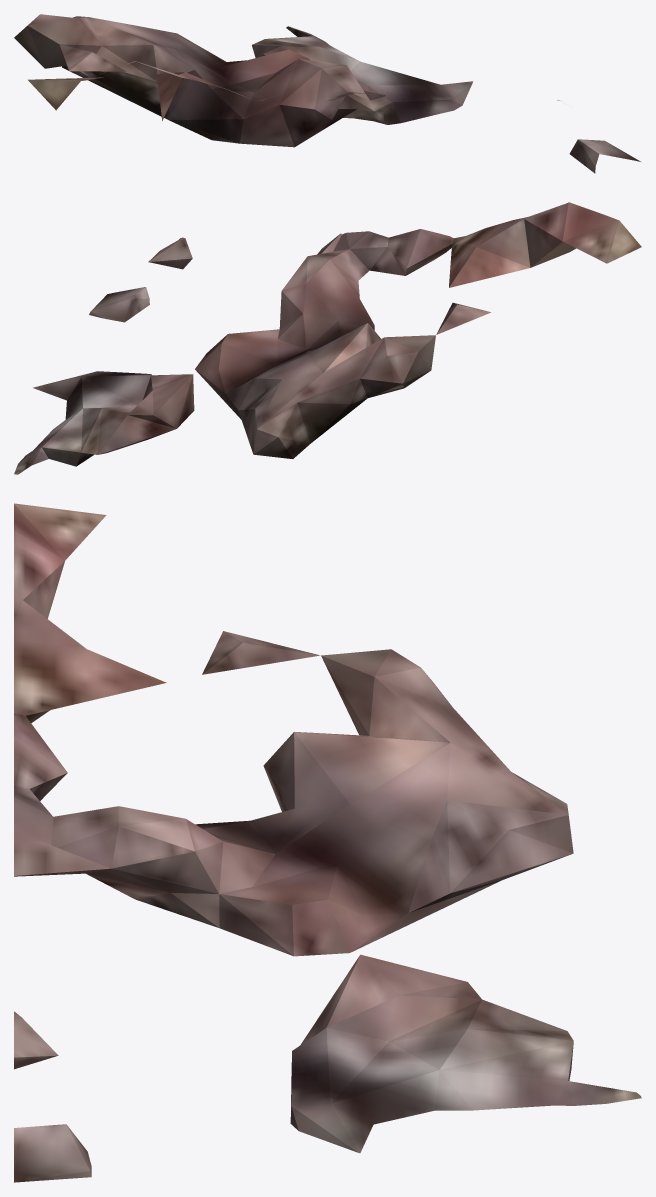
3 views of the same model, one above another, from view 1: azimuth 30°, elevation 25°; view 2: azimuth 150°, elevation 25°; view 3: azimuth 270°, elevation 25° (orthographic). The views are drawn at different scales.
Size of the model in its own units: 0.5618 by 0.2057 by 0.3777.
Materials: 1 (1 with a texture image).
